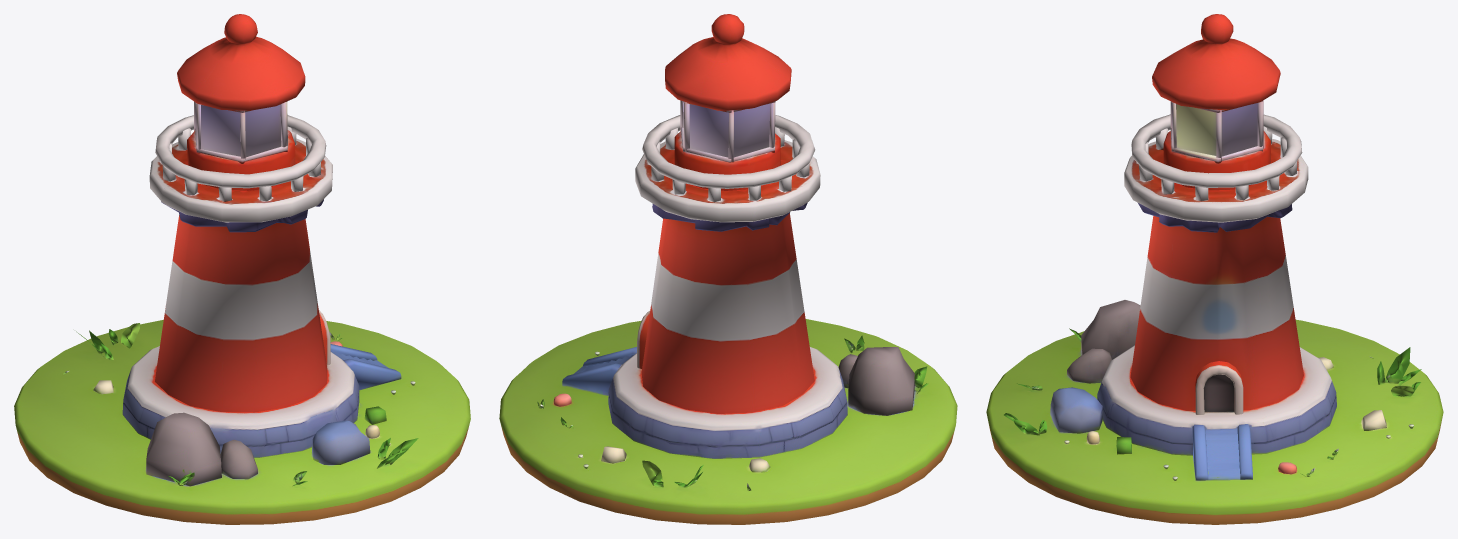
File: faro.glb
3 renders of one model, left to right at view 1: azimuth 30°, elevation 25°; view 2: azimuth 150°, elevation 25°; view 3: azimuth 270°, elevation 25°, orthographic.
Visible parts, largest first — view 1: tripo_node_32a73b36-7896-41f3-8afe-53b8bc9e8047; view 2: tripo_node_32a73b36-7896-41f3-8afe-53b8bc9e8047; view 3: tripo_node_32a73b36-7896-41f3-8afe-53b8bc9e8047.
Boxes of the visible parts, left/top/right/bottom form: tripo_node_32a73b36-7896-41f3-8afe-53b8bc9e8047: left=14, top=14, right=470, bottom=524; tripo_node_32a73b36-7896-41f3-8afe-53b8bc9e8047: left=499, top=14, right=957, bottom=524; tripo_node_32a73b36-7896-41f3-8afe-53b8bc9e8047: left=986, top=14, right=1443, bottom=524.
Bounding box in the file's own units: 0.998 × 0.998 × 0.998.
Materials: 1 (1 with a texture image).
